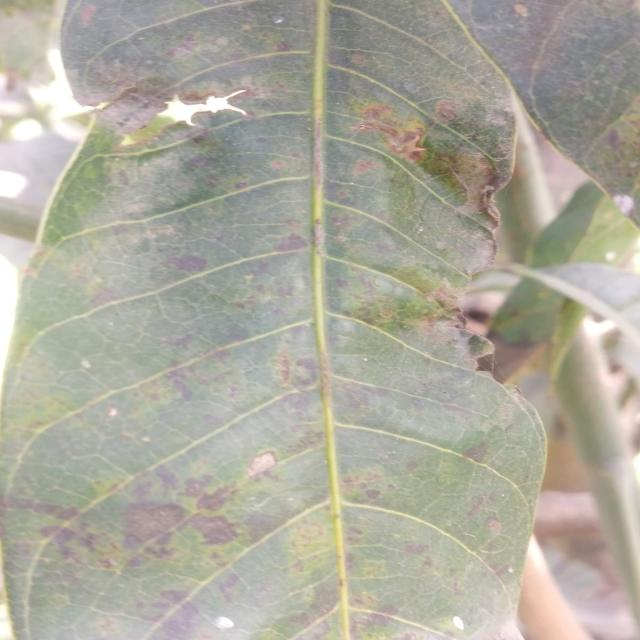Anthracnose: (155, 96, 236, 130), (173, 250, 216, 280)
Bacterial Cancer: (393, 120, 430, 164), (480, 186, 503, 225)
Powdery Mildew: (254, 459, 276, 473)
black die: (134, 501, 191, 548)
